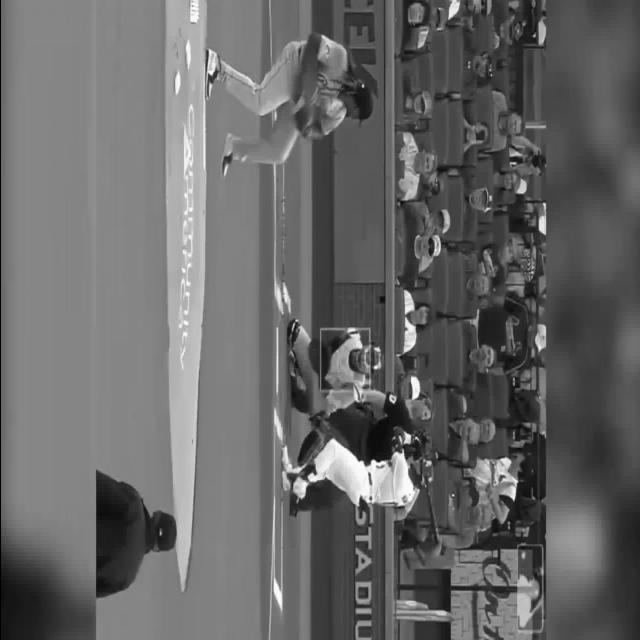base: (274, 328, 278, 395)
baseball_glove: (304, 337, 332, 375), (291, 102, 311, 136)
bat: (419, 490, 442, 550)
shoe: (202, 44, 220, 100), (216, 127, 234, 179), (281, 454, 291, 492)
